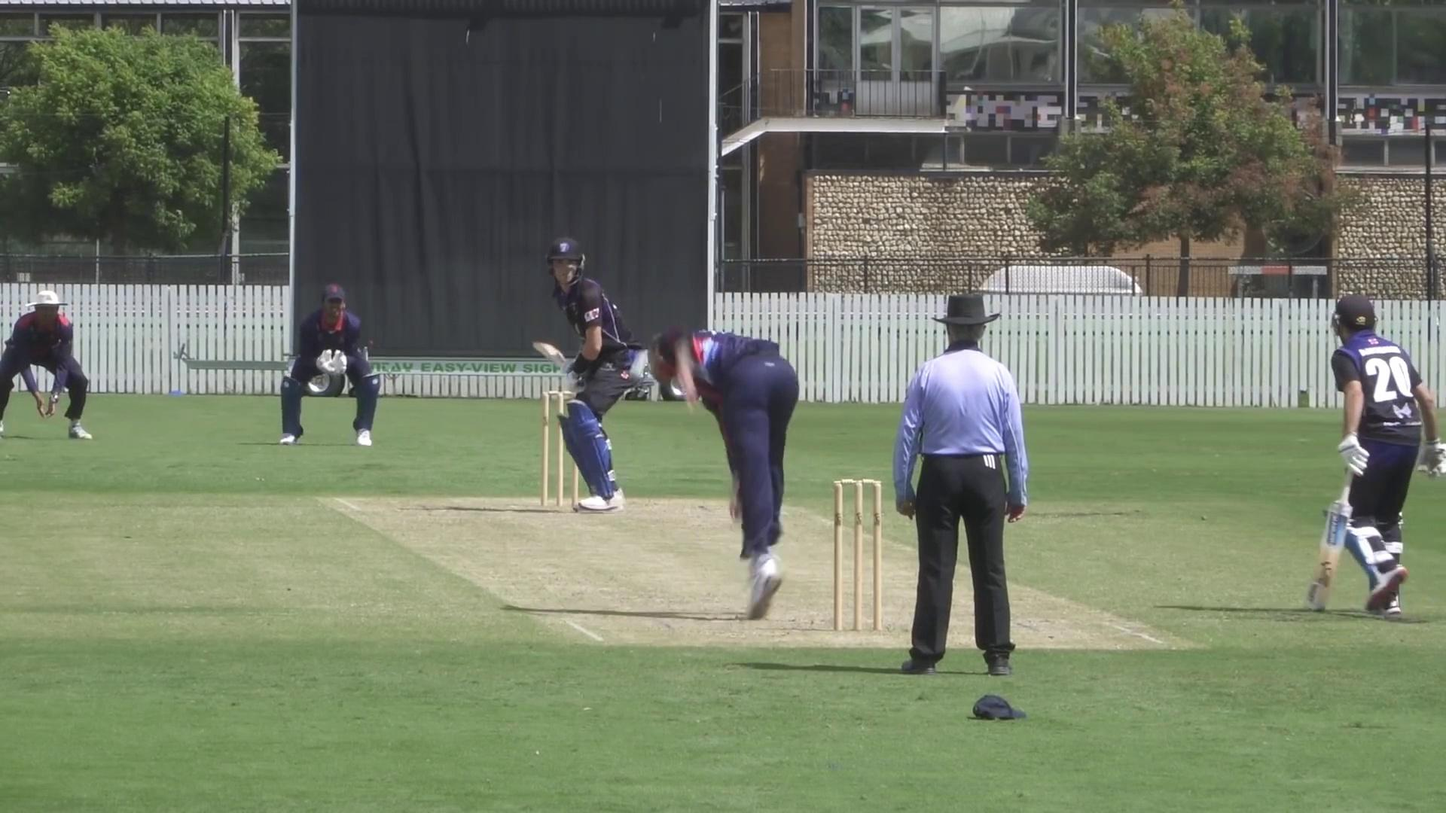ball: (627, 346, 653, 381)
